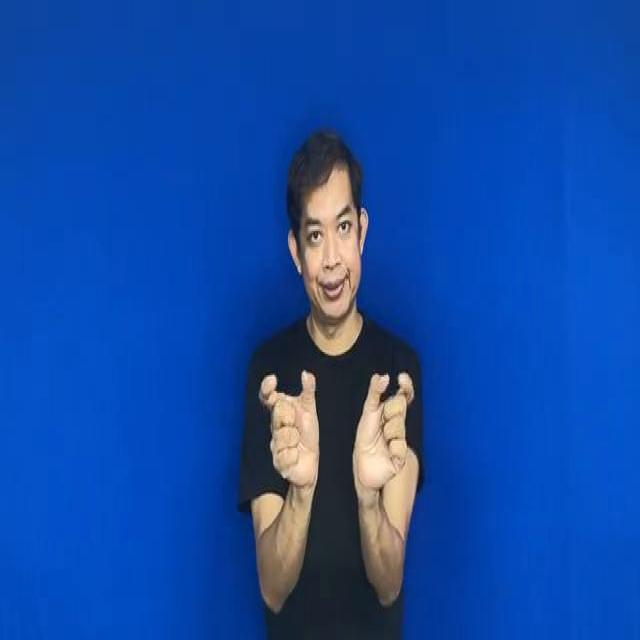crab: (242, 352, 424, 498)
